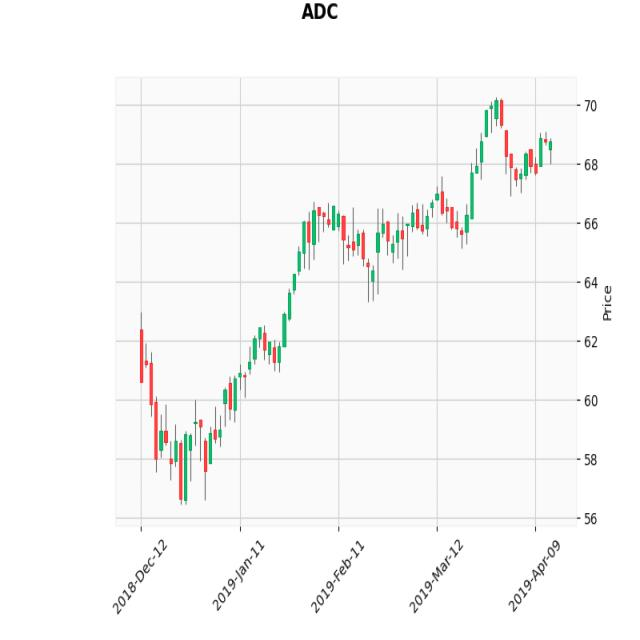Inverse-Head-Shoulders: (141, 382, 235, 508)
